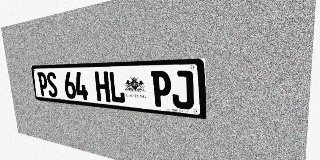4: (74, 72, 88, 100)
6: (63, 72, 77, 99)
H: (94, 71, 111, 102)
J: (171, 70, 194, 110)
L: (108, 71, 126, 104)
P: (151, 71, 172, 108), (37, 72, 49, 97)
S: (46, 72, 58, 97)
